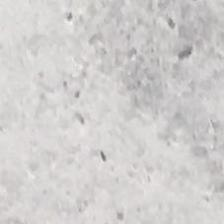Non_Crack: (25, 11, 192, 217)
